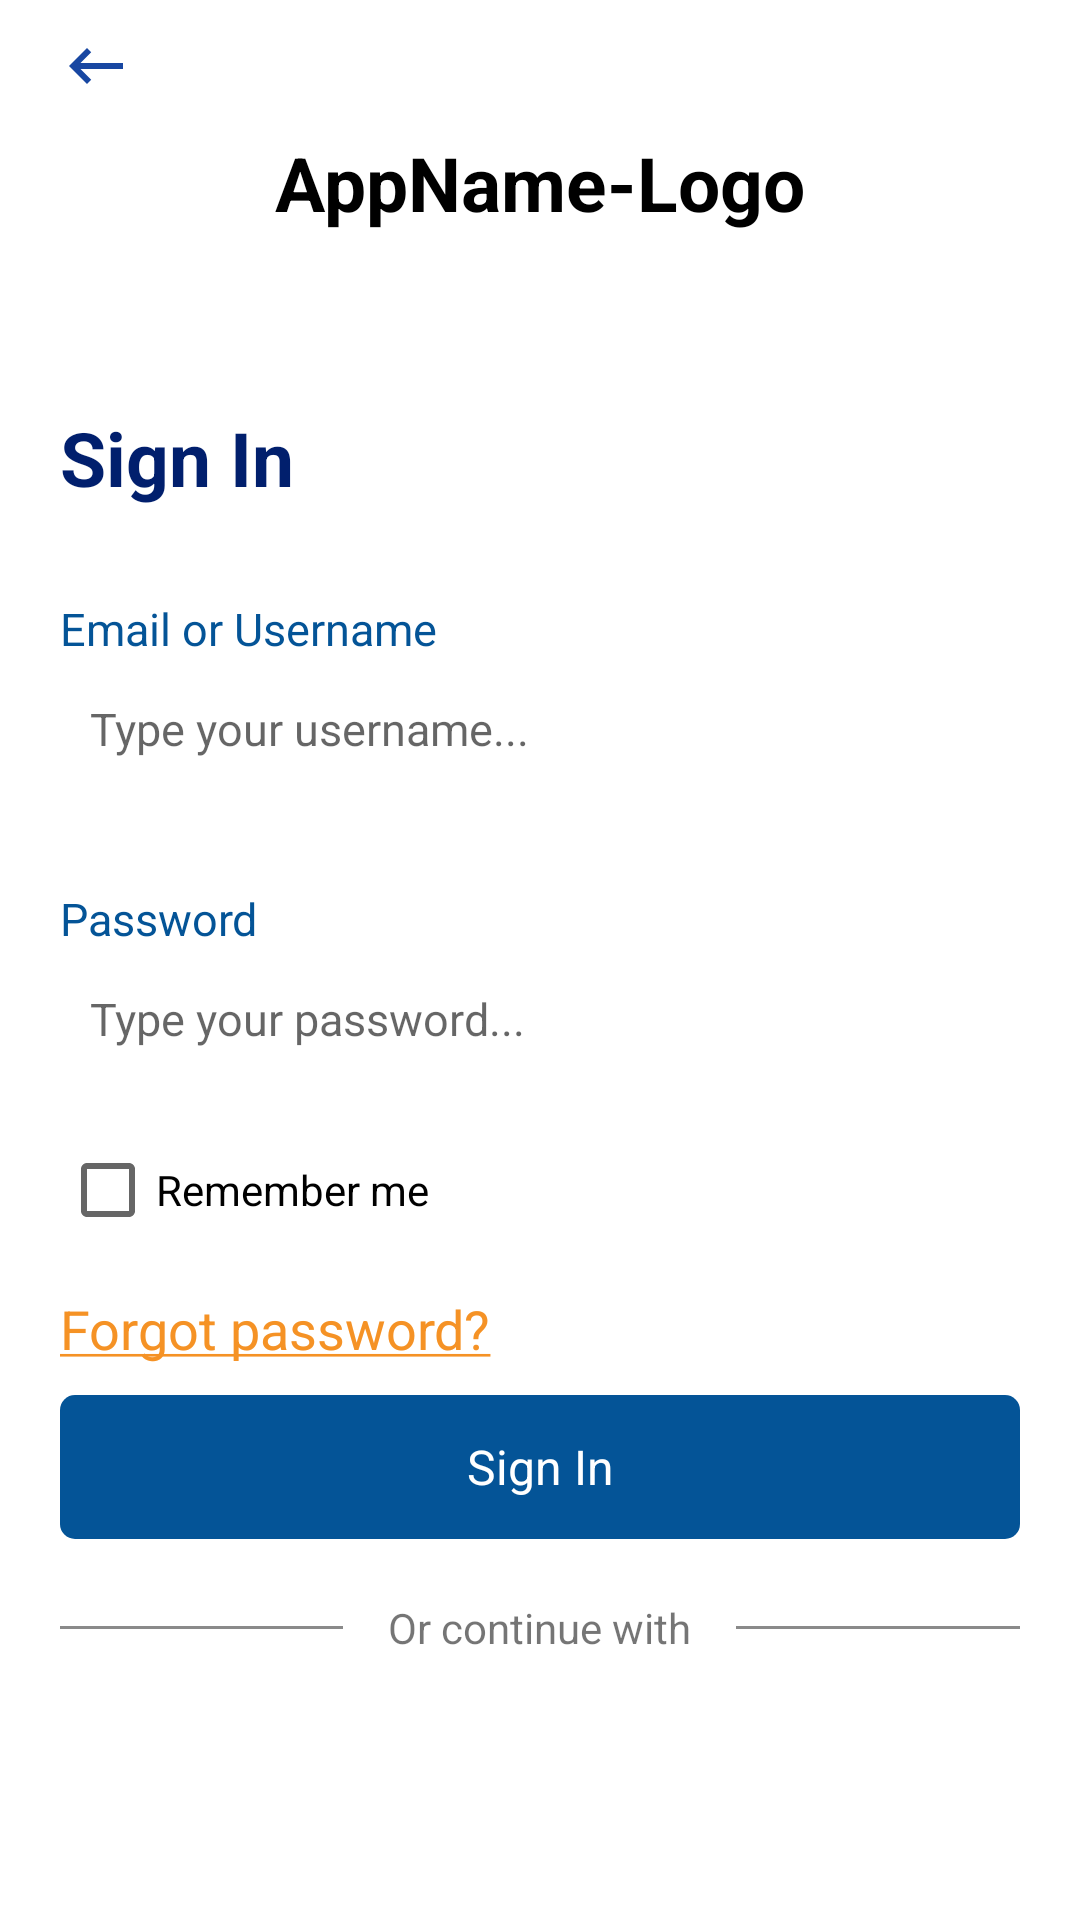

Named icons in this screenshot (1080w x 1920h) and their centers, (x,y):
back: (96,66)
